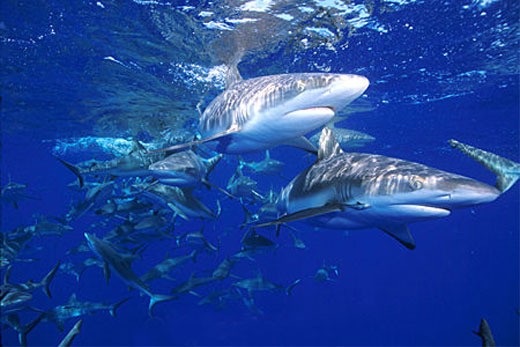Carcharhinus_amblyrhynchos: (259, 145, 505, 245), (159, 63, 380, 153)
